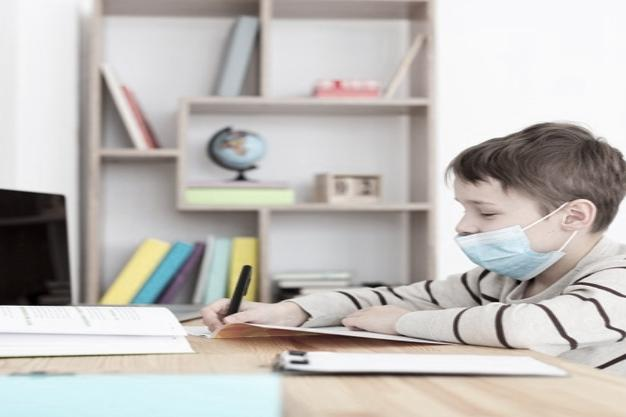mask_weared_incorrect: (447, 119, 626, 283)
